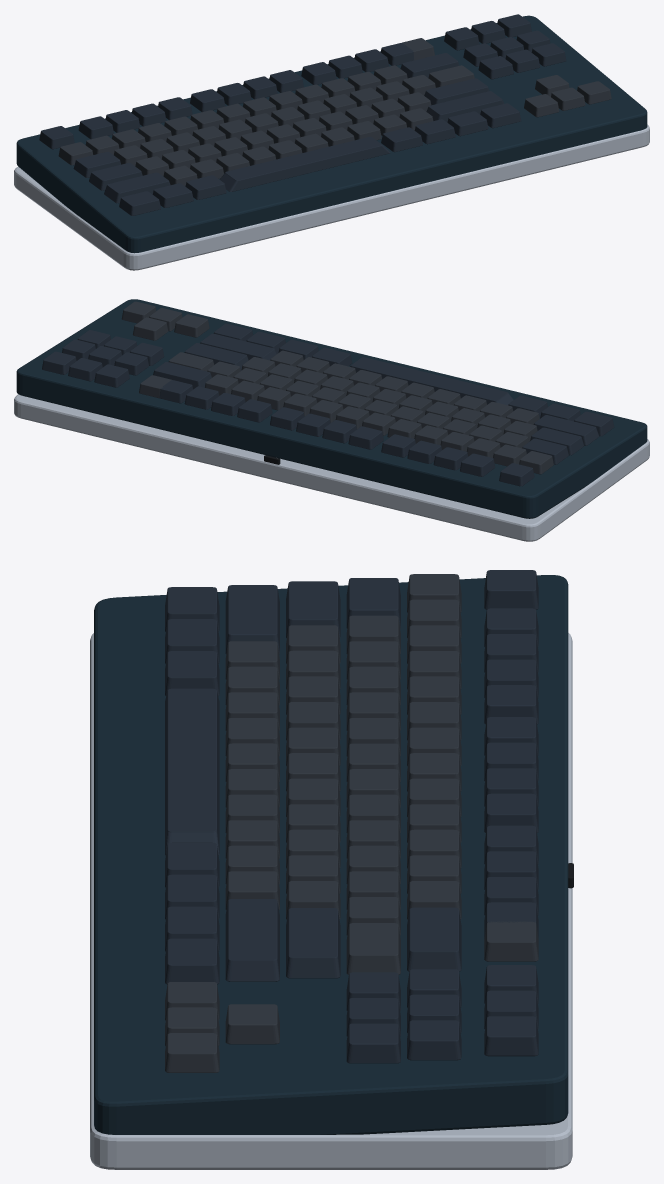
The model's file is keyboard-loomi.glb.
The picture shows the model from 3 angles, top to bottom: view 1: azimuth 30°, elevation 25°; view 2: azimuth 150°, elevation 25°; view 3: azimuth 270°, elevation 25°; orthographic projection. The views are drawn at different scales.
Visible parts, largest first — view 1: 하우징 (×2), Space 키, Shift 키 (×2), Alt 키 (×2), Ctrl 키 (×2), Enter 키, Back 키, Caps 키, Tab 키, Fn 키, Win 키, Menu 키 (+74 smaller); view 2: 하우징 (×2), Space 키, Shift 키 (×2), Ctrl 키 (×2), Alt 키 (×2), Back 키, Enter 키, Caps 키, Tab 키, Esc 키, Prt 키, ← 키 (+74 smaller); view 3: 하우징 (×2), Space 키, Shift 키 (×2), Ctrl 키 (×2), Alt 키 (×2), Enter 키, Back 키, \ 키, Caps 키, Pause 키, PgDn 키, PgUp 키 (+74 smaller).
Boxes of the visible parts, x1,y1,x2,y2 form: 하우징 (×2): [14, 15, 649, 270]; Space 키: [219, 136, 390, 191]; Shift 키 (×2): [104, 91, 504, 203]; Alt 키 (×2): [185, 127, 422, 199]; Ctrl 키 (×2): [119, 103, 521, 215]; Enter 키: [424, 78, 489, 105]; Back 키: [400, 53, 459, 78]; Caps 키: [89, 163, 142, 190]; Tab 키: [73, 151, 120, 177]; Fn 키: [414, 119, 455, 144]; Win 키: [152, 183, 193, 207]; Menu 키: [447, 111, 488, 136]; 하우징 (×2): [14, 299, 649, 541]; Space 키: [350, 357, 513, 405]; Shift 키 (×2): [200, 333, 599, 445]; Ctrl 키 (×2): [213, 323, 614, 436]; Alt 키 (×2): [312, 347, 547, 417]; Back 키: [153, 362, 211, 389]; Enter 키: [184, 343, 248, 370]; Caps 키: [530, 427, 583, 455]; Tab 키: [522, 438, 568, 464]; Esc 키: [499, 463, 534, 486]; Prt 키: [94, 364, 129, 387]; ← 키: [174, 314, 209, 337]; 하우징 (×2): [90, 575, 572, 1169]; Space 키: [165, 688, 219, 855]; Shift 키 (×2): [225, 585, 279, 981]; Ctrl 키 (×2): [165, 587, 219, 984]; Alt 키 (×2): [165, 651, 219, 887]; Enter 키: [286, 908, 340, 978]; Back 키: [407, 907, 461, 971]; \ 키: [346, 923, 400, 974]; Caps 키: [286, 581, 340, 638]; Pause 키: [484, 1016, 538, 1056]; PgDn 키: [346, 1023, 400, 1063]; PgUp 키: [407, 1020, 461, 1060].
Bounding box in the file's own units: 7.05 × 0.7359 × 2.82.
